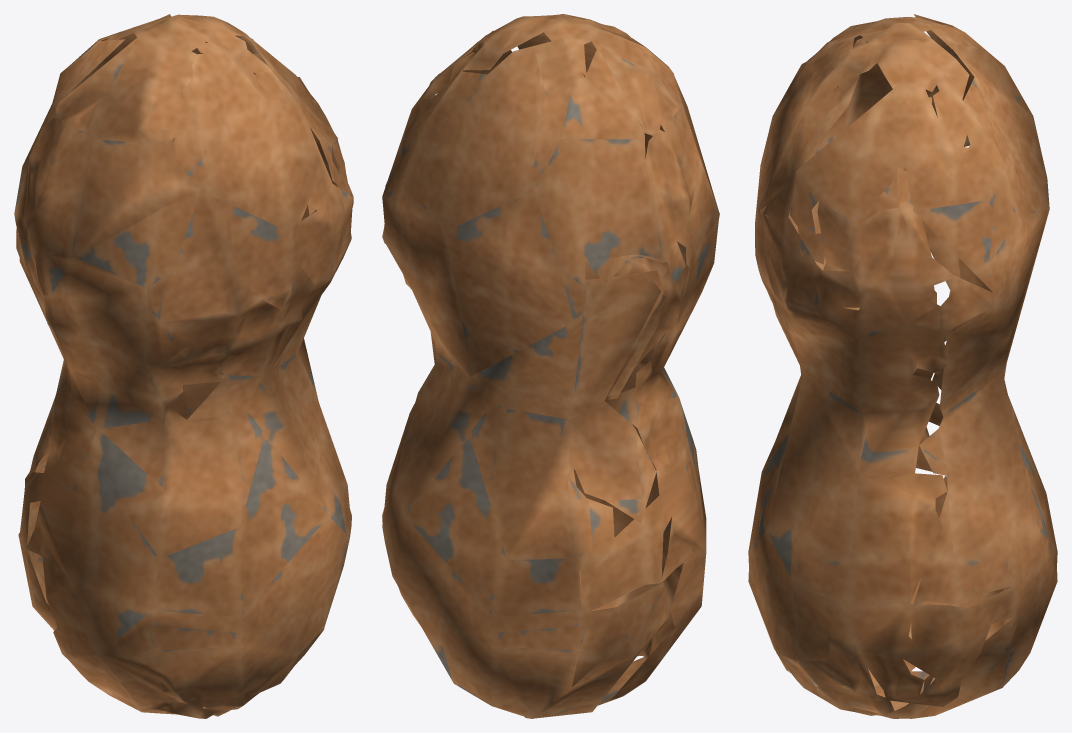
File: peanut.glb
The picture shows the model from 3 angles, left to right: view 1: azimuth 30°, elevation 25°; view 2: azimuth 150°, elevation 25°; view 3: azimuth 270°, elevation 25°; orthographic projection.
Parts seen in each view (by area): view 1: peanut_head_0, peanut_head_1; view 2: peanut_head_1, peanut_head_0; view 3: peanut_head_0, peanut_head_1.
Boxes of the visible parts, x1=… form: peanut_head_0: x1=16, y1=14, x2=353, y2=718; peanut_head_1: x1=14, y1=14, x2=351, y2=708; peanut_head_1: x1=382, y1=14, x2=685, y2=718; peanut_head_0: x1=382, y1=14, x2=719, y2=717; peanut_head_0: x1=748, y1=17, x2=1015, y2=718; peanut_head_1: x1=763, y1=14, x2=1057, y2=718.
Size of the model in its own units: 0.7392 by 1.64 by 0.6779.
1 material, 1 textured.
